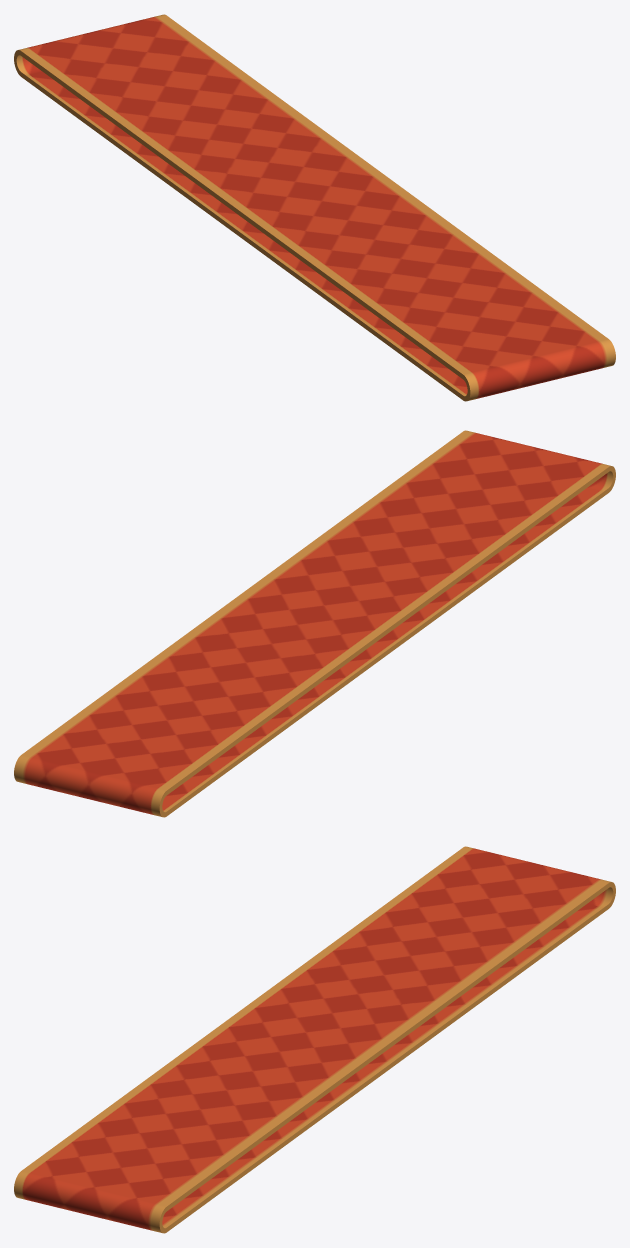
File: Red.fbx
The picture shows the model from 3 angles, top to bottom: view 1: azimuth 30°, elevation 25°; view 2: azimuth 150°, elevation 25°; view 3: azimuth 330°, elevation 25°; orthographic projection.
Parts seen in each view (by area): view 1: pCube1; view 2: pCube1; view 3: pCube1.
Part boxes in pixels (x1,y1,x2,y2): pCube1: (14, 14, 615, 401); pCube1: (14, 430, 615, 817); pCube1: (14, 846, 615, 1233).
Size of the model in its own units: 6.2 by 1.05 by 33.63.
